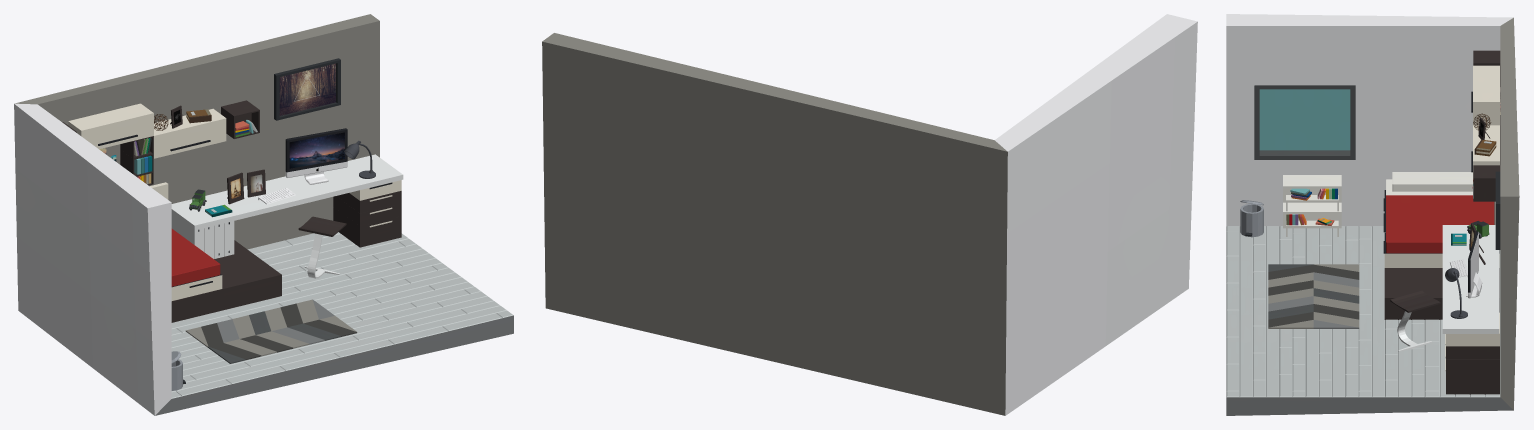
The model's file is low_poly_room.glb.
The picture shows the model from 3 angles, left to right: view 1: azimuth 30°, elevation 25°; view 2: azimuth 150°, elevation 25°; view 3: azimuth 270°, elevation 25°; orthographic projection. The views are drawn at different scales.
Parts seen in each view (by area): view 1: Plane, Plane.031, Cube.017, Cube.008, Cube.005, Tumblr autumn forest, Cube, Plane.003, Plane.004, Plane.010, Cube.016, Plane.011 (+25 smaller); view 2: Plane; view 3: Plane, Plane.031, Cube.016, Cube.017, Cube.082, Cube.008, Cube.081, Plane.003, Plane.010, Plane.017, Plane.008, Plane.004 (+33 smaller).
Part boxes in pixels (x1,y1,x2,y2): Plane: [14, 14, 513, 415]; Plane.031: [185, 299, 357, 363]; Cube.017: [171, 154, 403, 247]; Cube.008: [171, 240, 281, 322]; Cube.005: [68, 103, 153, 149]; Tumblr autumn forest: [279, 63, 335, 115]; Cube: [153, 108, 226, 158]; Plane.003: [427, 291, 513, 328]; Plane.004: [372, 305, 458, 341]; Plane.010: [395, 268, 480, 304]; Cube.016: [171, 228, 220, 286]; Plane.011: [340, 281, 426, 317]; Plane: [542, 14, 1197, 415]; Plane: [1226, 14, 1519, 415]; Plane.031: [1268, 264, 1359, 328]; Cube.016: [1386, 179, 1494, 253]; Cube.017: [1442, 225, 1499, 333]; Cube.082: [1283, 175, 1341, 236]; Cube.008: [1384, 268, 1499, 319]; Cube.081: [1254, 85, 1355, 159]; Plane.003: [1226, 369, 1292, 397]; Plane.010: [1292, 369, 1358, 397]; Plane.017: [1358, 369, 1424, 397]; Plane.008: [1226, 234, 1292, 261]; Plane.004: [1226, 342, 1292, 369].
Bounding box in the file's own units: 13.05 × 7.31 × 8.85.
Materials: 15 (15 with a texture image).
